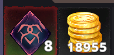gold: (58, 7, 110, 55)
